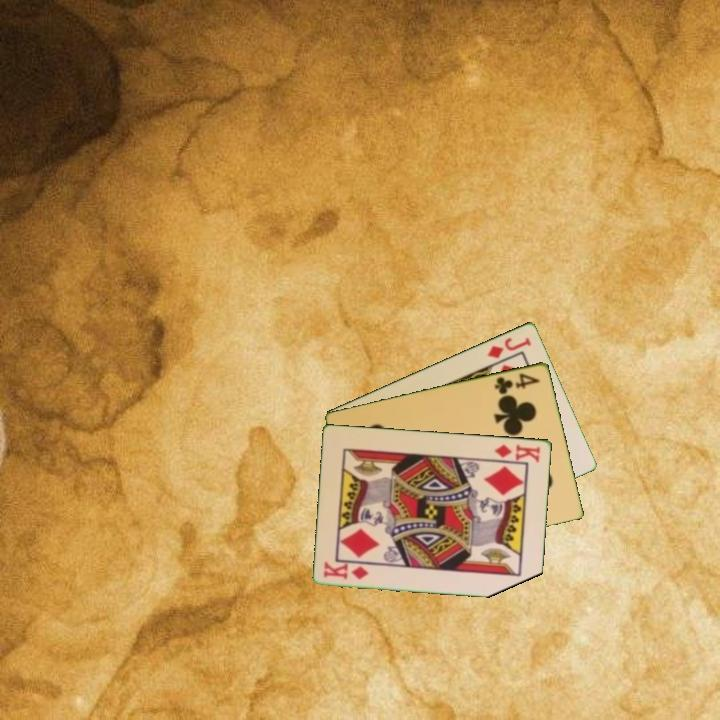4c: (491, 369, 543, 397)
Jd: (484, 333, 534, 361)
Kd: (491, 440, 543, 465), (320, 559, 372, 582)
